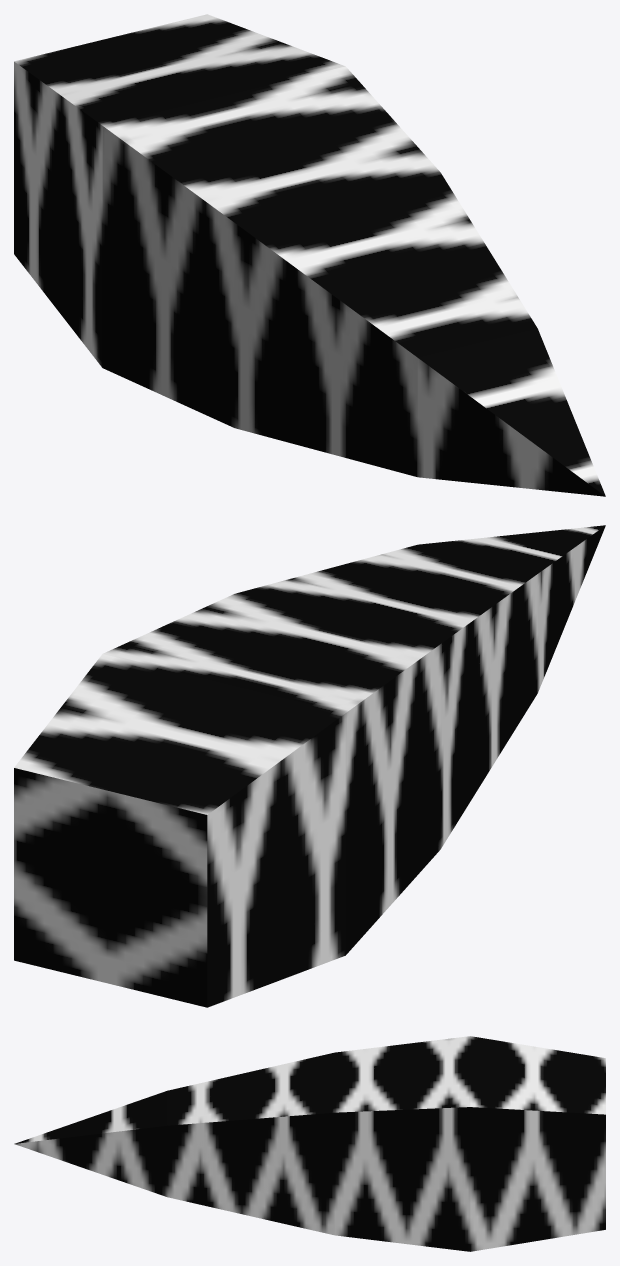
File: Bullet.fbx
3 views of the same model, one above another, from view 1: azimuth 30°, elevation 25°; view 2: azimuth 150°, elevation 25°; view 3: azimuth 270°, elevation 25° (orthographic). The views are drawn at different scales.
Parts seen in each view (by area): view 1: Bullet; view 2: Bullet; view 3: Bullet.
Boxes of the visible parts, box(x1,y1,x2,y2) form: Bullet: box(14, 14, 605, 496); Bullet: box(14, 525, 605, 1007); Bullet: box(14, 1036, 605, 1251).
Size of the model in its own units: 19.72 by 18.78 by 69.55.
